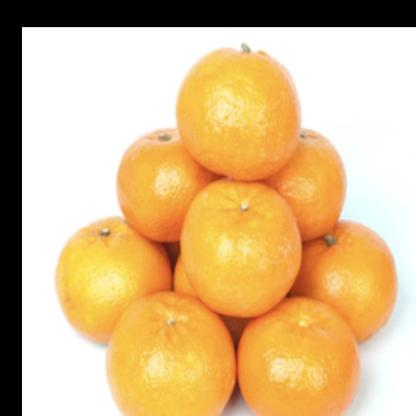fresh: (56, 45, 401, 416)
